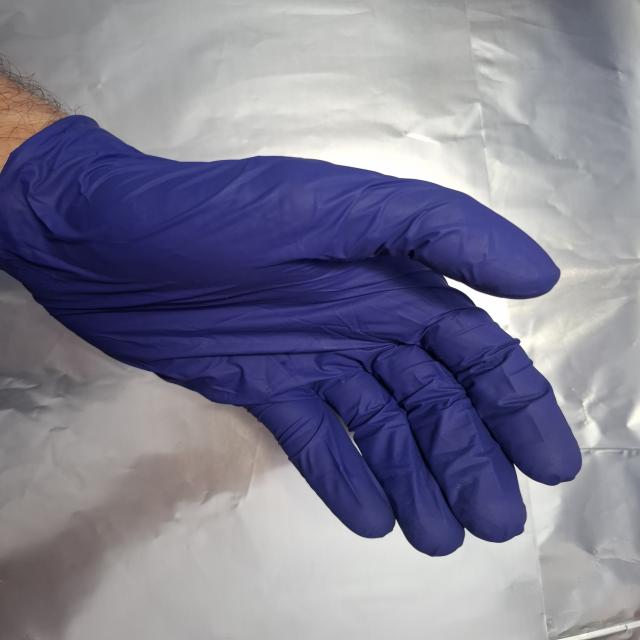glove_on: (4, 108, 590, 561)
